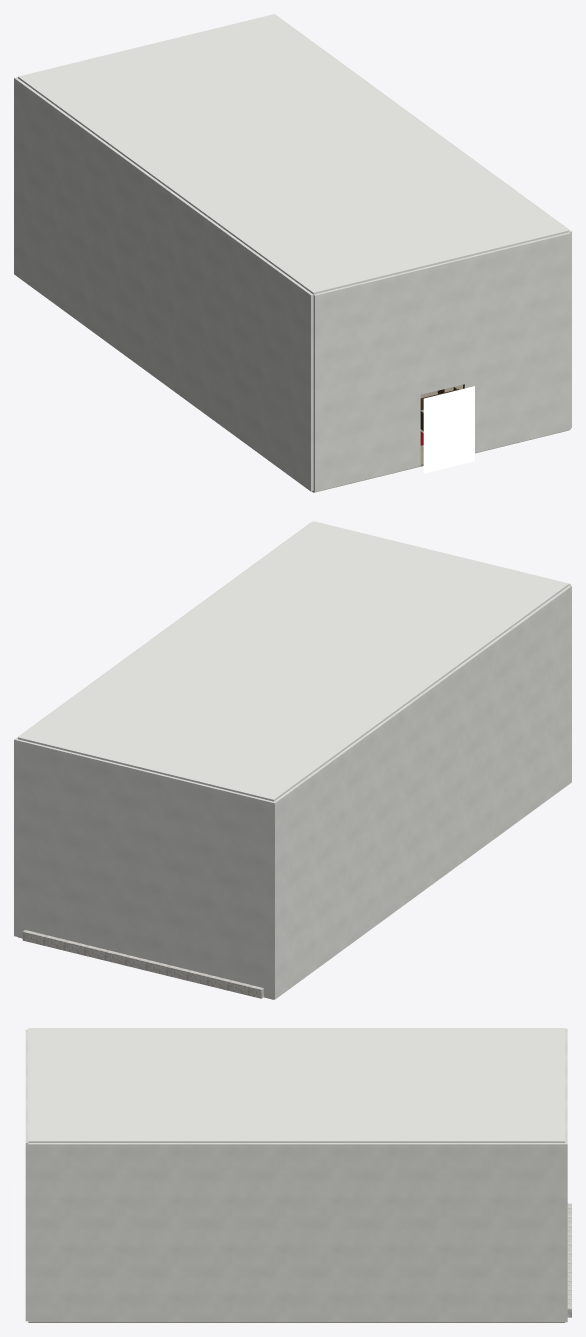
File: room_church.glb
3 renders of one model, top to bottom at view 1: azimuth 30°, elevation 25°; view 2: azimuth 150°, elevation 25°; view 3: azimuth 270°, elevation 25°, orthographic. The views are drawn at different scales.
Visible parts, largest first — view 1: Room; view 2: Room; view 3: Room.
Boxes of the visible parts, <box> form: Room: <box>14,14,571,492</box>; Room: <box>14,521,571,999</box>; Room: <box>14,1028,571,1322</box>.
Bounding box in the file's own units: 15.3 × 11.2 × 31.21.
Materials: 26 (7 with a texture image).
